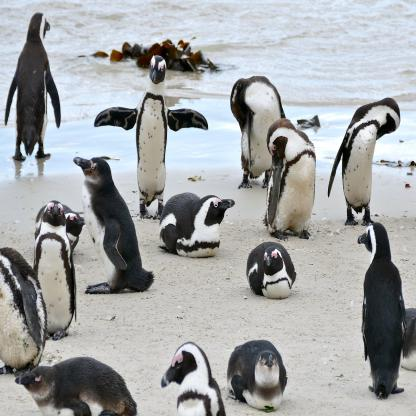Penguin: (93, 47, 210, 233), (68, 150, 157, 302), (323, 91, 407, 234), (350, 219, 410, 403), (3, 4, 69, 170), (25, 195, 84, 343), (224, 66, 291, 193), (260, 115, 320, 245), (11, 358, 143, 416), (2, 237, 54, 384), (154, 185, 240, 261), (221, 326, 296, 410), (156, 332, 227, 416), (232, 232, 301, 302), (31, 193, 86, 270)
